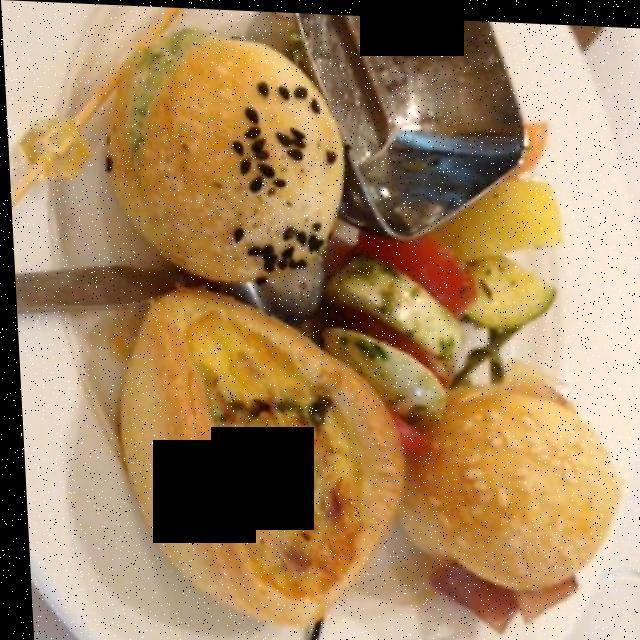sandwich: (401, 377, 625, 633)
vegetables-stuffed-pie: (103, 273, 393, 617)
